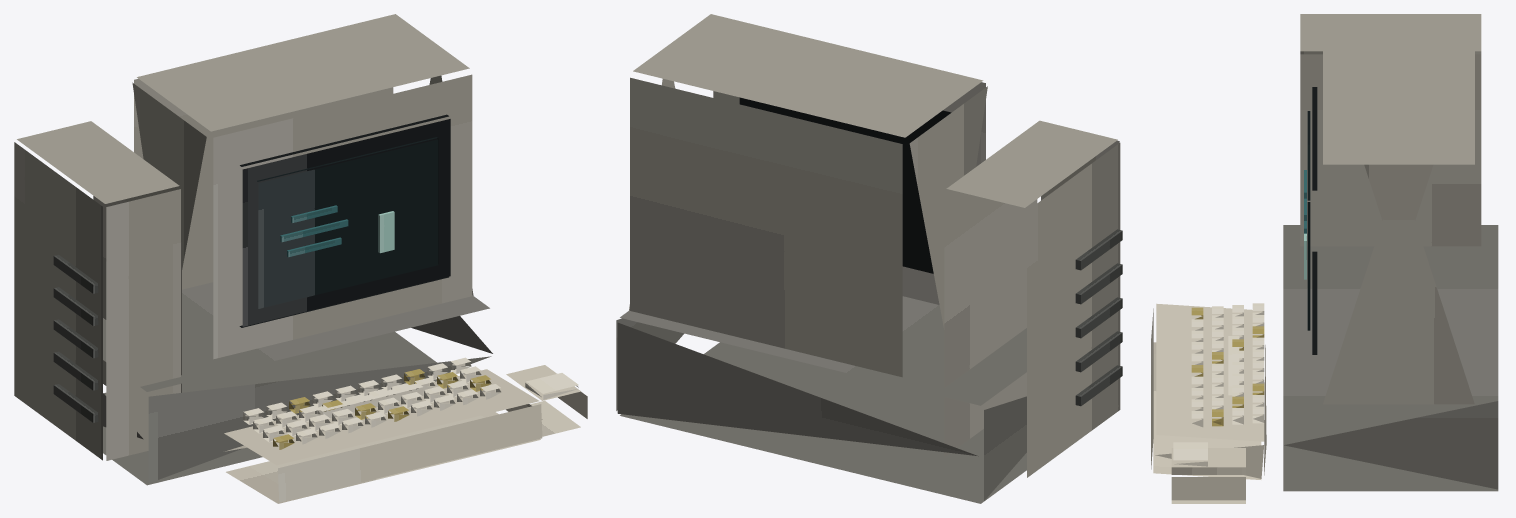
Rendered from retro_computer_compact_ivory.glb.
3 views of the same model, side by side, from view 1: azimuth 30°, elevation 25°; view 2: azimuth 150°, elevation 25°; view 3: azimuth 270°, elevation 25° (orthographic). The views are drawn at different scales.
Visible parts, largest first — view 1: MonitorShell, SideExpansion, CompactBase, MonitorGlow, KeyboardBody, MonitorFace, Mouse, SpaceBar, MouseButton, ScreenGlyph_4, SideVent_1, SideVent_0 (+3 smaller); view 2: MonitorShell, CompactBase, SideExpansion, MonitorFace, SideVent_3, SideVent_4, SideVent_0, SideVent_2, SideVent_1; view 3: MonitorShell, CompactBase, SideExpansion, KeyboardBody, Mouse, MonitorFace, MonitorGlow, MouseButton, SpaceBar.
Boxes of the visible parts, x1=… form: MonitorShell: x1=132, y1=14, x2=473, y2=359; SideExpansion: x1=14, y1=121, x2=181, y2=460; CompactBase: x1=103, y1=282, x2=492, y2=485; MonitorGlow: x1=257, y1=137, x2=438, y2=308; KeyboardBody: x1=224, y1=369, x2=542, y2=503; MonitorFace: x1=239, y1=114, x2=450, y2=327; Mouse: x1=506, y1=365, x2=587, y2=436; SpaceBar: x1=317, y1=383, x2=423, y2=419; MouseButton: x1=525, y1=373, x2=578, y2=399; ScreenGlyph_4: x1=378, y1=211, x2=394, y2=253; SideVent_1: x1=53, y1=351, x2=98, y2=390; SideVent_0: x1=53, y1=384, x2=98, y2=422; MonitorShell: x1=629, y1=14, x2=987, y2=377; CompactBase: x1=616, y1=296, x2=1026, y2=503; SideExpansion: x1=944, y1=120, x2=1120, y2=477; MonitorFace: x1=739, y1=97, x2=951, y2=273; SideVent_3: x1=1075, y1=263, x2=1122, y2=304; SideVent_4: x1=1075, y1=229, x2=1122, y2=270; SideVent_0: x1=1075, y1=365, x2=1122, y2=406; SideVent_2: x1=1075, y1=297, x2=1122, y2=338; SideVent_1: x1=1075, y1=331, x2=1122, y2=372; MonitorShell: x1=1323, y1=35, x2=1474, y2=404; CompactBase: x1=1283, y1=225, x2=1498, y2=491; SideExpansion: x1=1300, y1=14, x2=1481, y2=246; KeyboardBody: x1=1151, y1=303, x2=1266, y2=479; Mouse: x1=1171, y1=448, x2=1245, y2=503; MonitorFace: x1=1312, y1=87, x2=1317, y2=354; MonitorGlow: x1=1307, y1=111, x2=1310, y2=330; MouseButton: x1=1173, y1=442, x2=1207, y2=466; SpaceBar: x1=1228, y1=336, x2=1239, y2=395.
Size of the model in its own units: 1.25 by 0.89 by 0.8679.
Materials: 1 (1 with a texture image).
